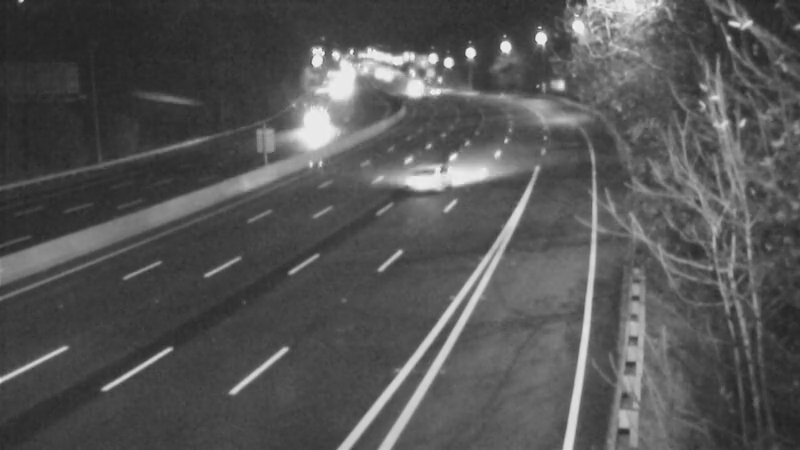vehicle: (382, 136, 462, 216), (389, 56, 439, 106), (409, 68, 459, 118), (390, 69, 440, 119), (288, 104, 338, 154)
